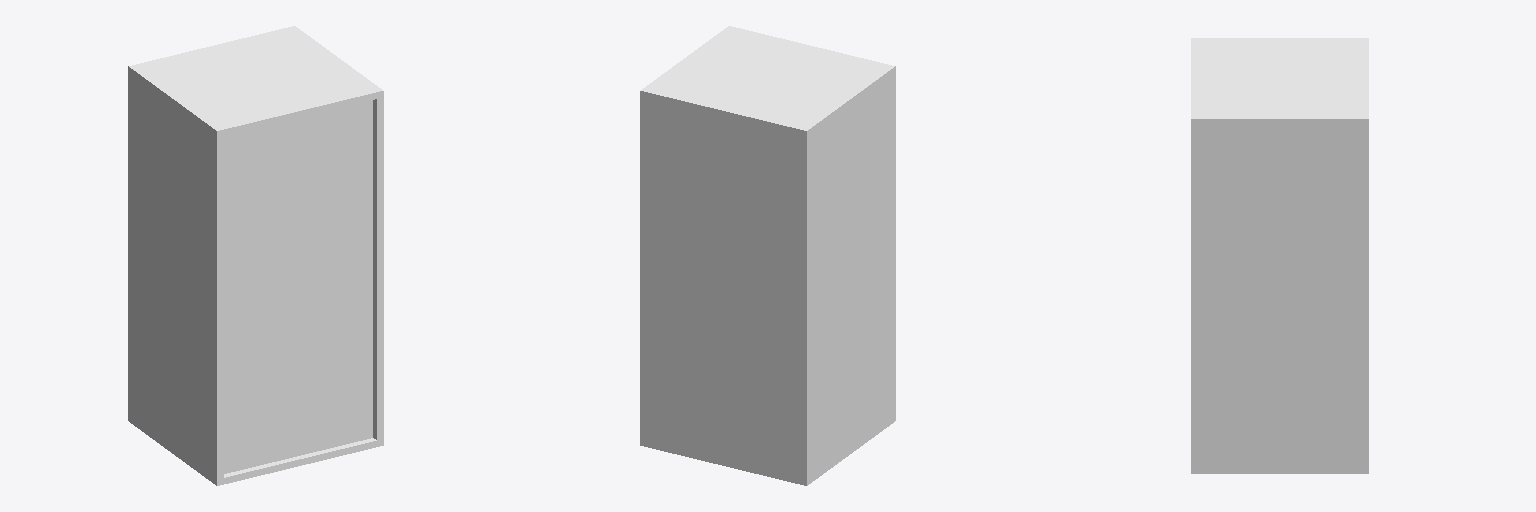
Rendered from speaker_n.obj.
3 views of the same model, side by side, from view 1: azimuth 30°, elevation 25°; view 2: azimuth 150°, elevation 25°; view 3: azimuth 270°, elevation 25° (orthographic).
Bounding box in the file's own units: 26 × 53 × 24.